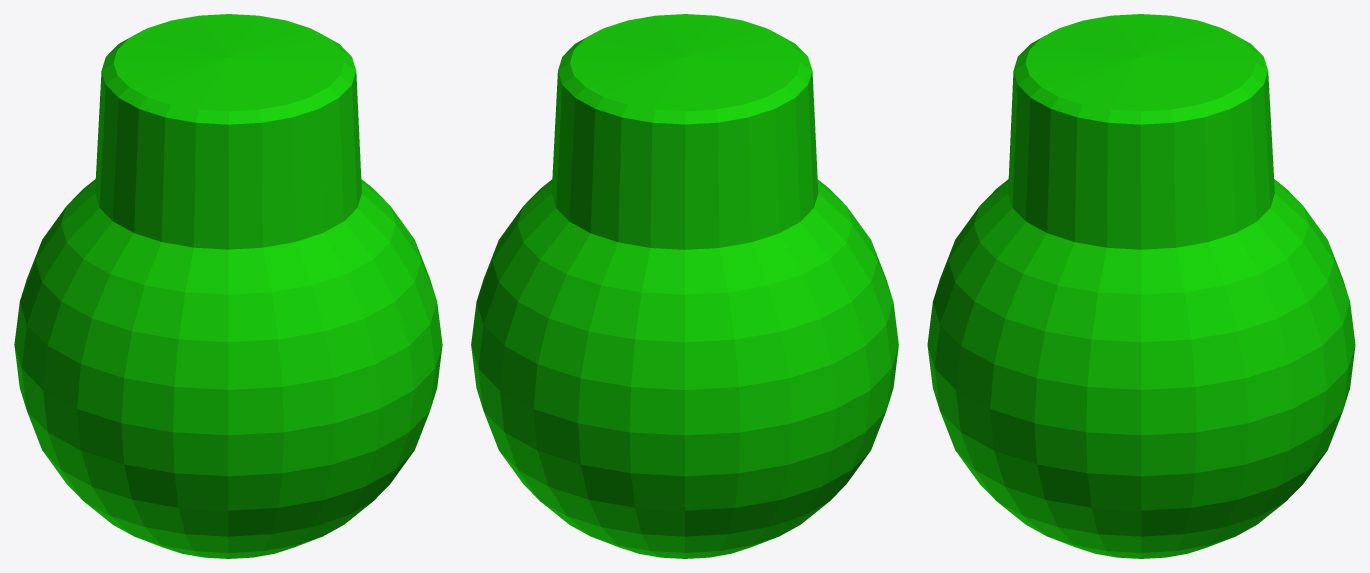
File: courier.fbx
The picture shows the model from 3 angles, left to right: view 1: azimuth 30°, elevation 25°; view 2: azimuth 150°, elevation 25°; view 3: azimuth 270°, elevation 25°; orthographic projection.
Visible parts, largest first — view 1: Sphere; view 2: Sphere; view 3: Sphere.
Part boxes in pixels (<box>): Sphere: <box>14,14,442,558</box>; Sphere: <box>471,14,898,558</box>; Sphere: <box>927,14,1355,558</box>.
Bounding box in the file's own units: 200 × 248 × 200.
